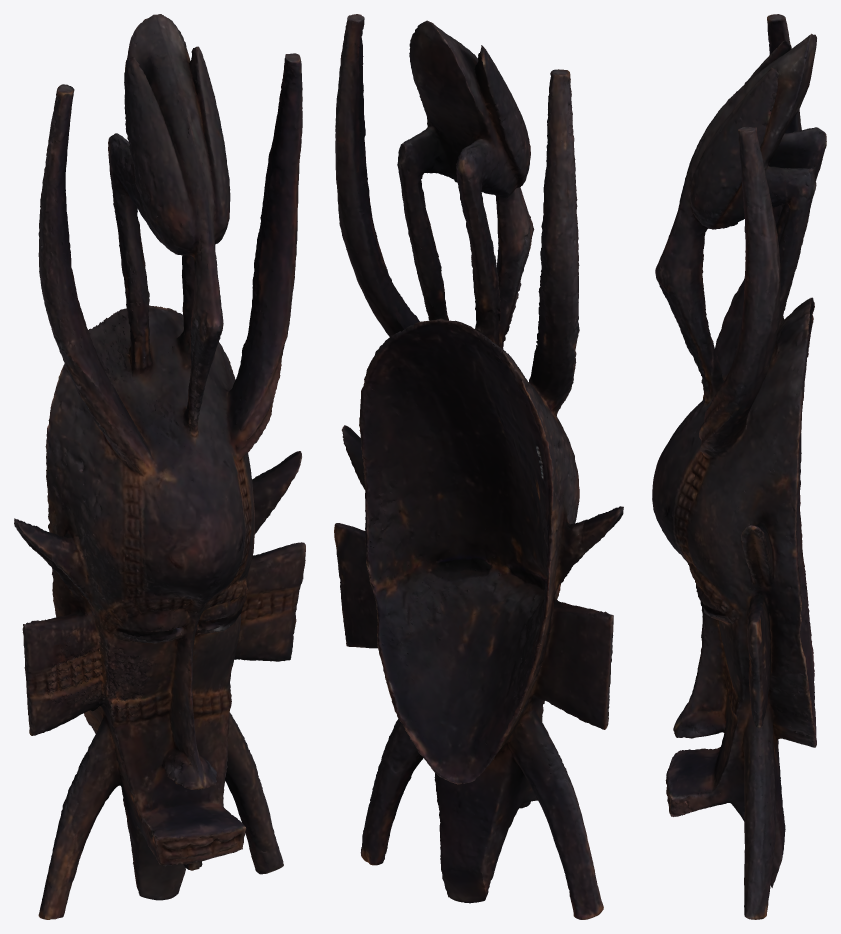
File: preview.glb
The picture shows the model from 3 angles, left to right: view 1: azimuth 30°, elevation 25°; view 2: azimuth 150°, elevation 25°; view 3: azimuth 270°, elevation 25°; orthographic projection. The views are drawn at different scales.
Visible parts, largest first — view 1: Object_2; view 2: Object_2; view 3: Object_2.
Part boxes in pixels (x1,y1,x2,y2): Object_2: (14, 14, 305, 919); Object_2: (334, 14, 623, 919); Object_2: (652, 14, 826, 919).
Size of the model in its own units: 17.66 by 51.36 by 9.51.
1 material, 1 textured.
